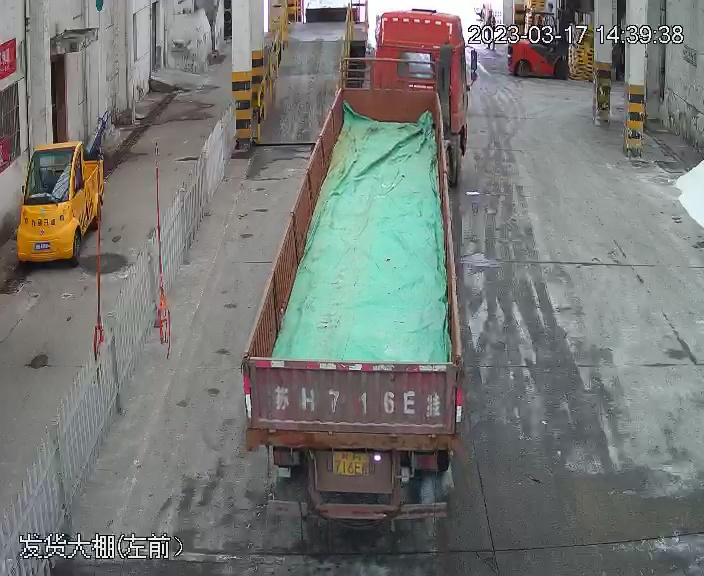truck: (222, 4, 476, 547)
